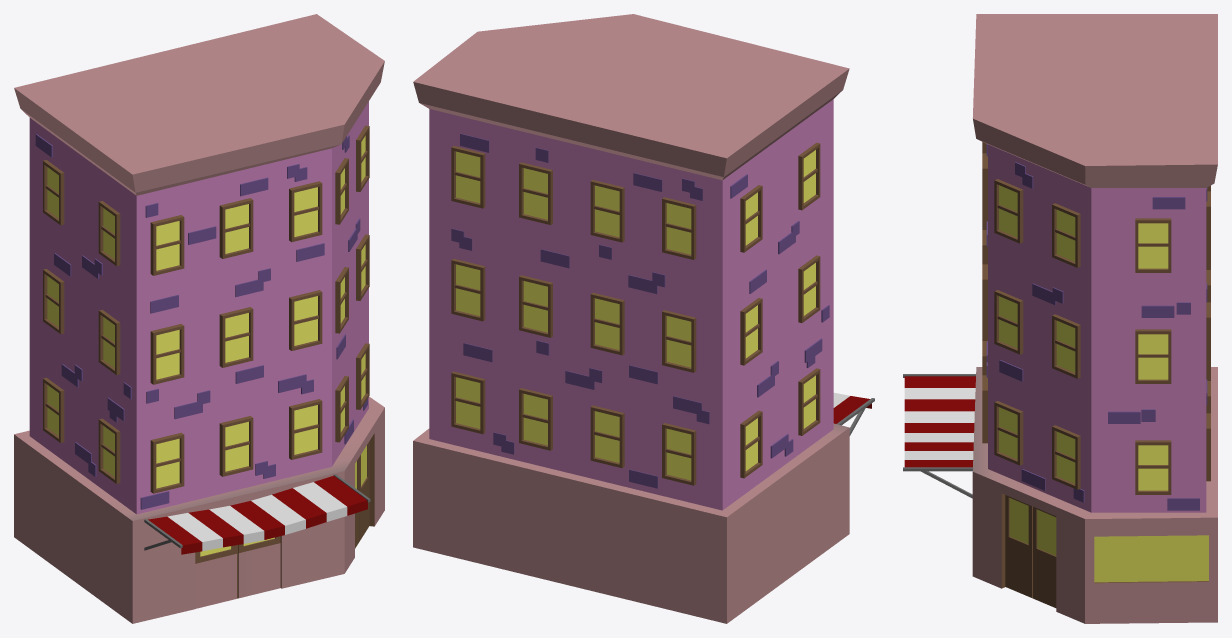
File: Target_Building_14.FBX
3 renders of one model, left to right at view 1: azimuth 30°, elevation 25°; view 2: azimuth 150°, elevation 25°; view 3: azimuth 270°, elevation 25°, orthographic. The views are drawn at different scales.
Visible parts, largest first — view 1: Object009; view 2: Object009; view 3: Object009.
Part boxes in pixels (x1=…): Object009: x1=14, y1=14, x2=384, y2=623; Object009: x1=413, y1=14, x2=874, y2=623; Object009: x1=903, y1=14, x2=1217, y2=623.
Bounding box in the file's own units: 235 × 331 × 206.
